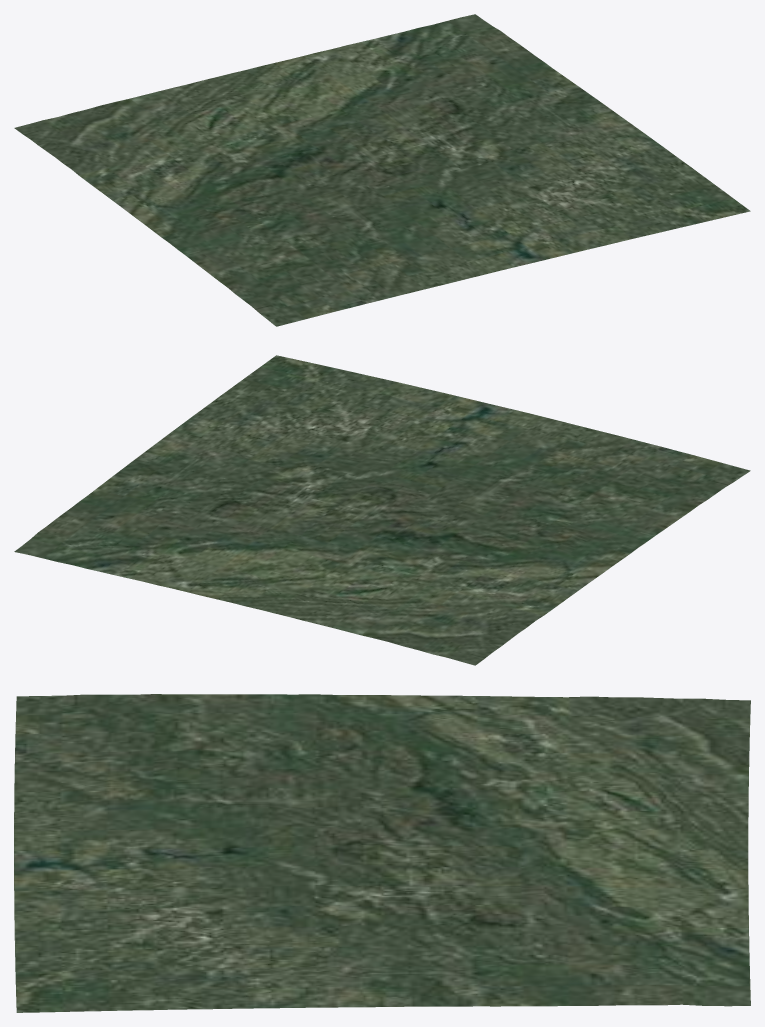
3 renders of one model, top to bottom at view 1: azimuth 30°, elevation 25°; view 2: azimuth 150°, elevation 25°; view 3: azimuth 270°, elevation 25°, orthographic. The views are drawn at different scales.
Bounding box in the file's own units: 258876 × 3979 × 255060.
Materials: 1 (1 with a texture image).
